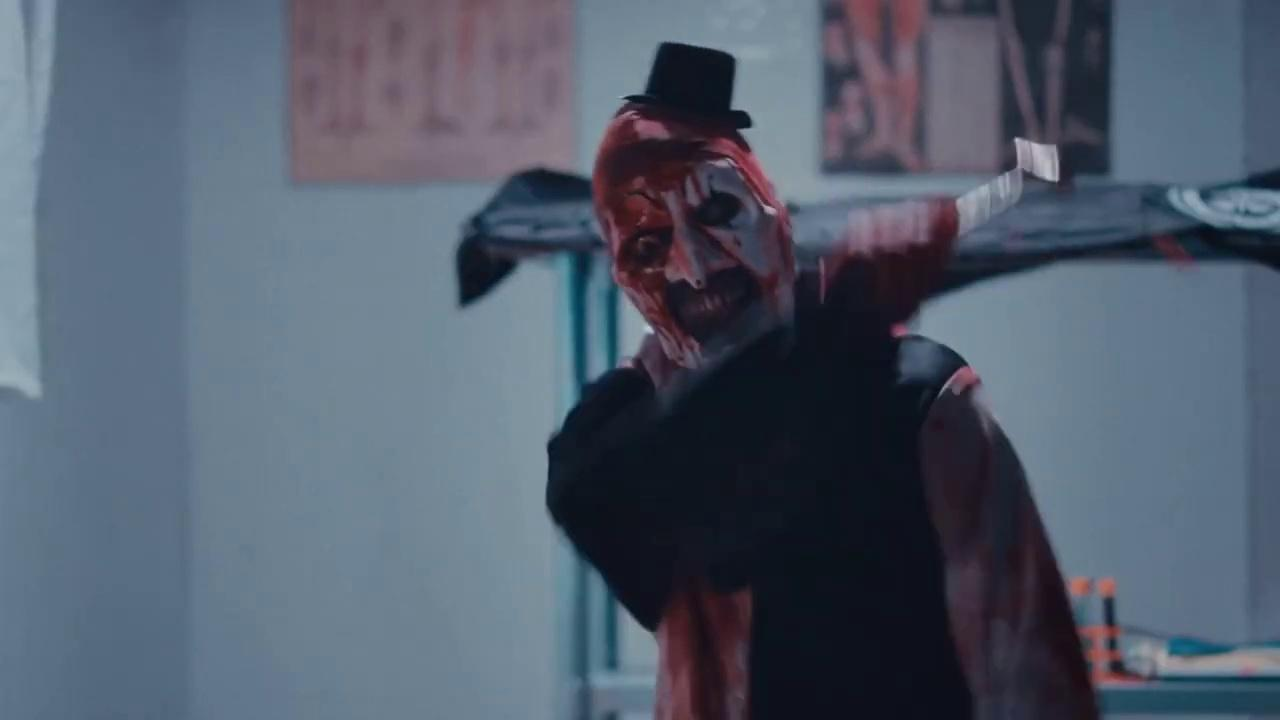Fire: (446, 43, 1280, 720)
